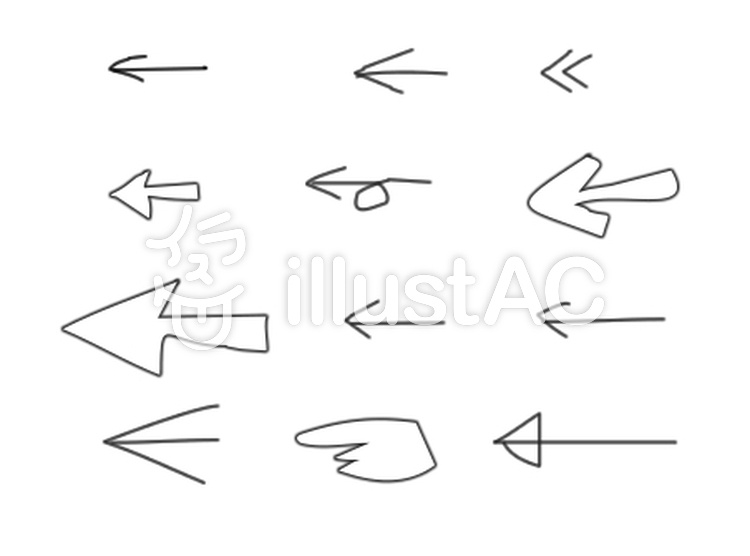arrow: (56, 275, 275, 389), (524, 132, 701, 246), (486, 404, 681, 474), (89, 166, 210, 231), (338, 40, 462, 103), (296, 169, 430, 224), (90, 49, 229, 99), (532, 297, 684, 340), (338, 291, 453, 343)
